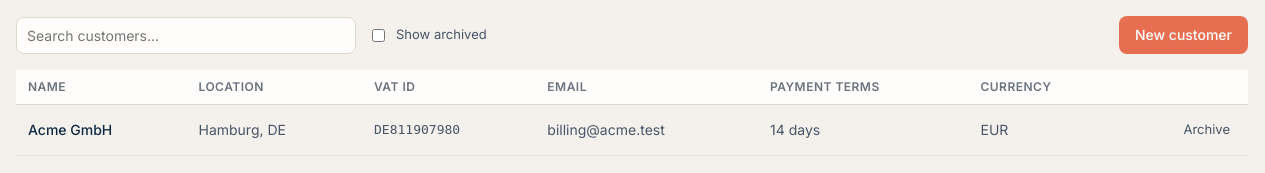
Scenario: the customer list › shows what the API answered, archived rows included on request
Expected: the button "Acme GmbH" is shown, [28,119,112,140]
Expected: the text "DE811907980" is shown, [362,104,535,155]
Step 1. Click the checkbox labelled "Show archived" → (378, 35), box [372,28,385,42]
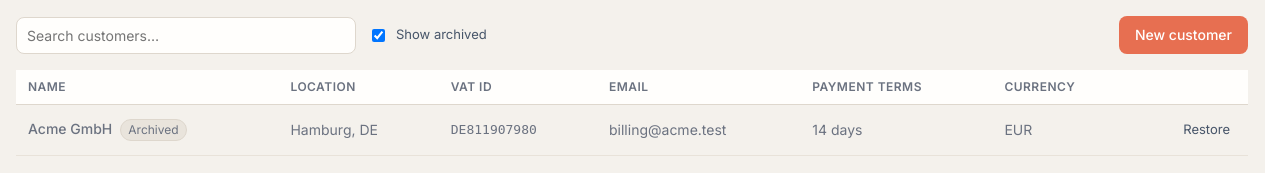
Expected: the text "Archived" is shown, [120,119,187,141]
